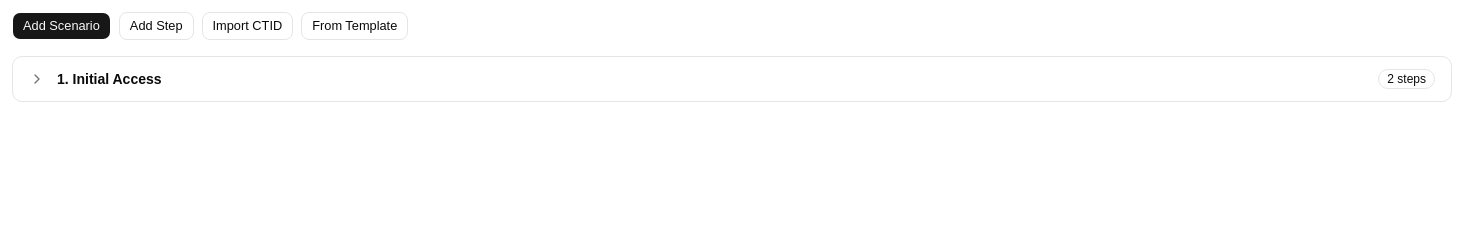
Test case: WorkbookPage — red sees all steps › shows revealed step name
Click the heading "1. Initial Access".
click(109, 79)  # box [57, 71, 162, 87]
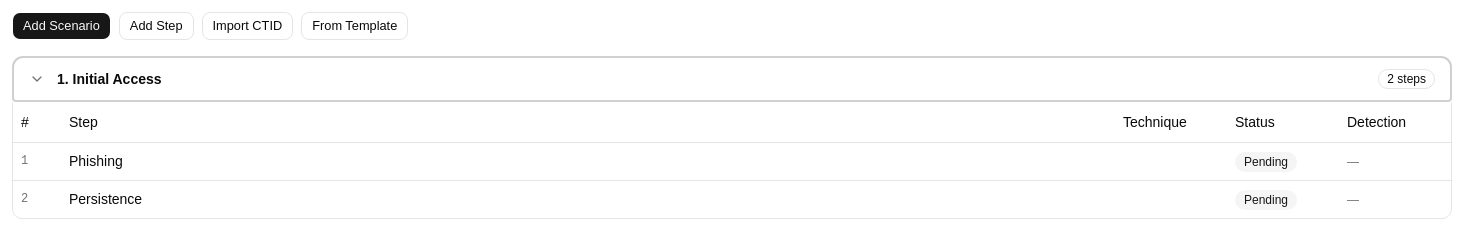
Expected: the text "Phishing" is shown, [69, 151, 123, 171]
